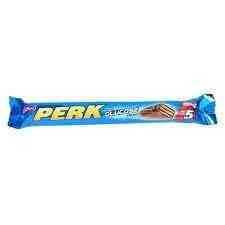Cocoa Powder: (7, 93, 219, 128)
